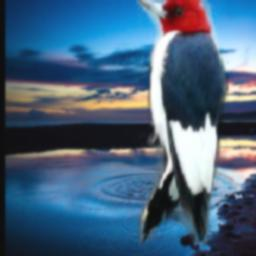Woodpecker: (136, 0, 228, 250)
